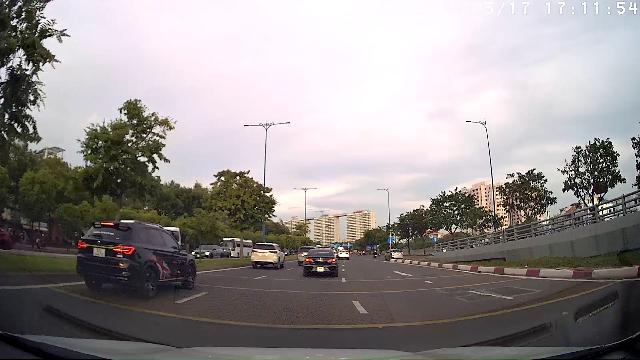301a-cac-xe-chi-duoc-di-thang: (432, 236, 438, 243), (388, 237, 394, 244)
